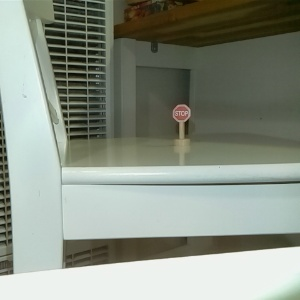stop sign: (171, 101, 192, 149)
